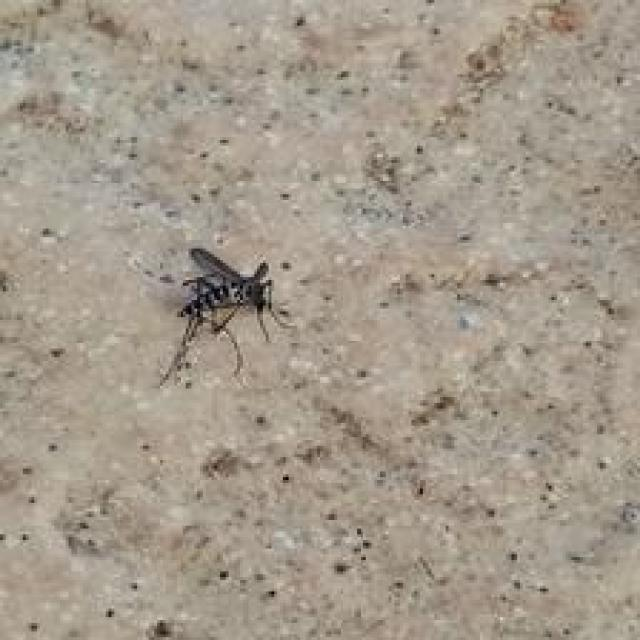Aedes albopictus: (157, 245, 294, 388)
